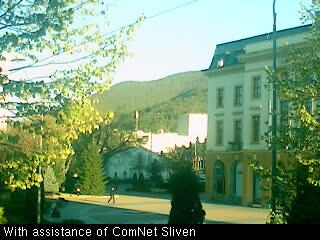person: (108, 187, 116, 204)
